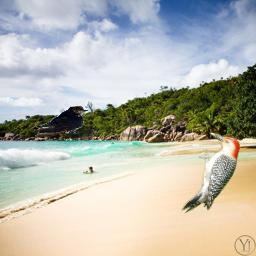Swallow: (32, 106, 88, 137)
Woodpecker: (179, 129, 240, 217)
